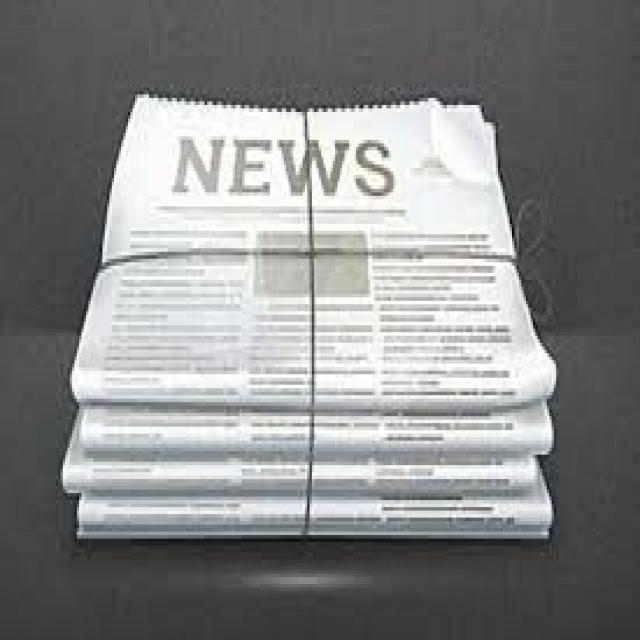Newspaper: (64, 95, 559, 543)
